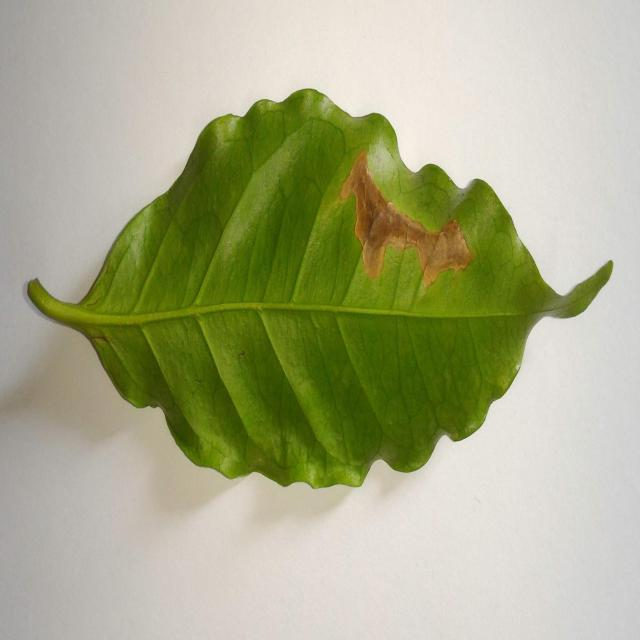Plaga-Minador: (24, 88, 613, 492)
